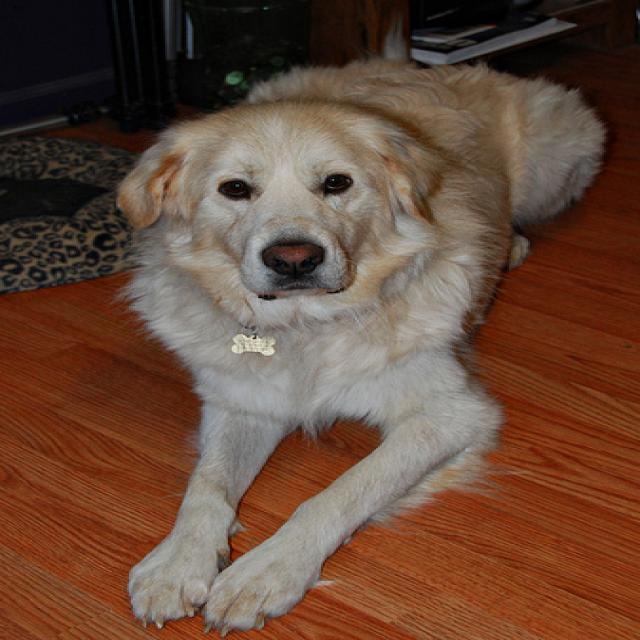dog-great_pyrenees: (87, 50, 623, 637)
